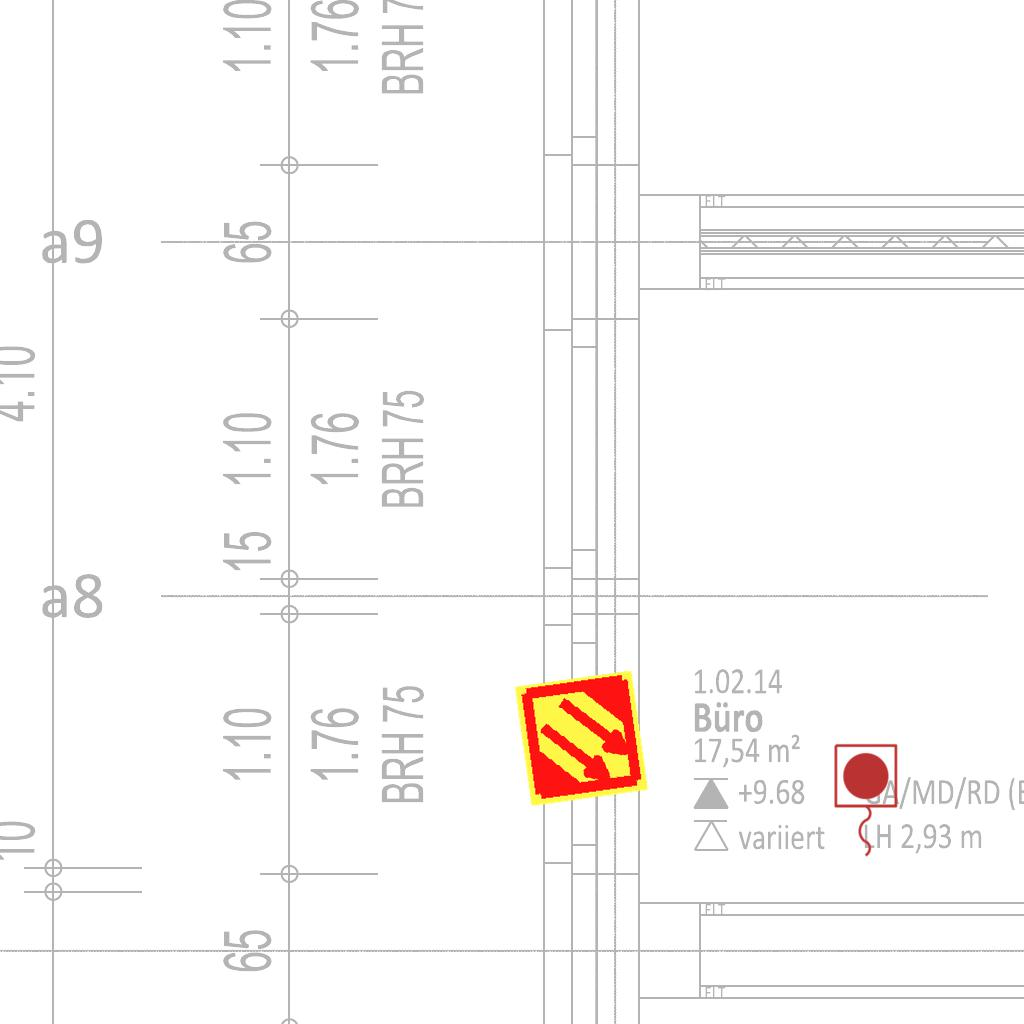ASR_Ansaugrauchmelder: (510, 667, 653, 810)
Zugtaster: (829, 740, 901, 862)
